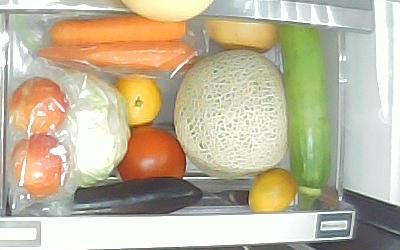cabbage: (68, 74, 132, 185)
carrot: (50, 15, 187, 46)
carrot_vinyl: (38, 45, 196, 74)
eggplant: (73, 178, 204, 213)
melon: (173, 49, 289, 178)
pear: (205, 19, 277, 52)
prune_vinyl: (11, 136, 70, 198), (8, 76, 67, 136)
tangerine: (114, 75, 162, 125), (248, 168, 297, 211)
tomato: (118, 126, 188, 179)
zucchini: (277, 24, 328, 210)
